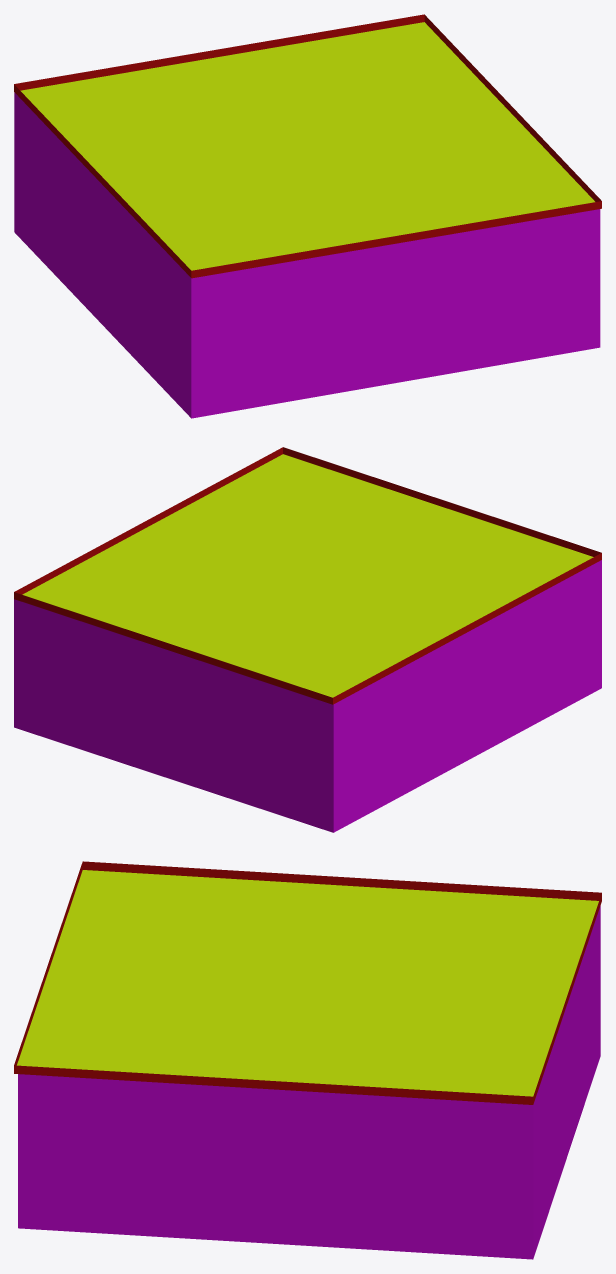
File: rmc_130.glb
The picture shows the model from 3 angles, top to bottom: view 1: azimuth 30°, elevation 25°; view 2: azimuth 150°, elevation 25°; view 3: azimuth 270°, elevation 25°; orthographic projection. The views are drawn at different scales.
Visible parts, largest first — view 1: rmc_130; view 2: rmc_130; view 3: rmc_130.
Part boxes in pixels (x1,y1,x2,y2): rmc_130: (14, 14, 601, 418); rmc_130: (14, 447, 601, 832); rmc_130: (14, 861, 601, 1259).
Bounding box in the file's own units: 20.89 × 6.74 × 22.07.
